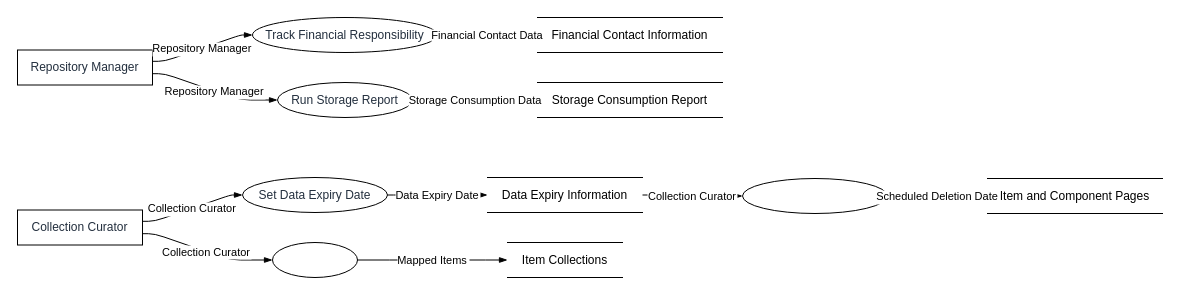
Image size: 1180x295. Some labels were removed from this diagram. Here are the shapes that lost their labels. From the top down, the centre of each, then its label:
the point at 815,196: Display Deletion Date
the point at 315,260: Map Items
